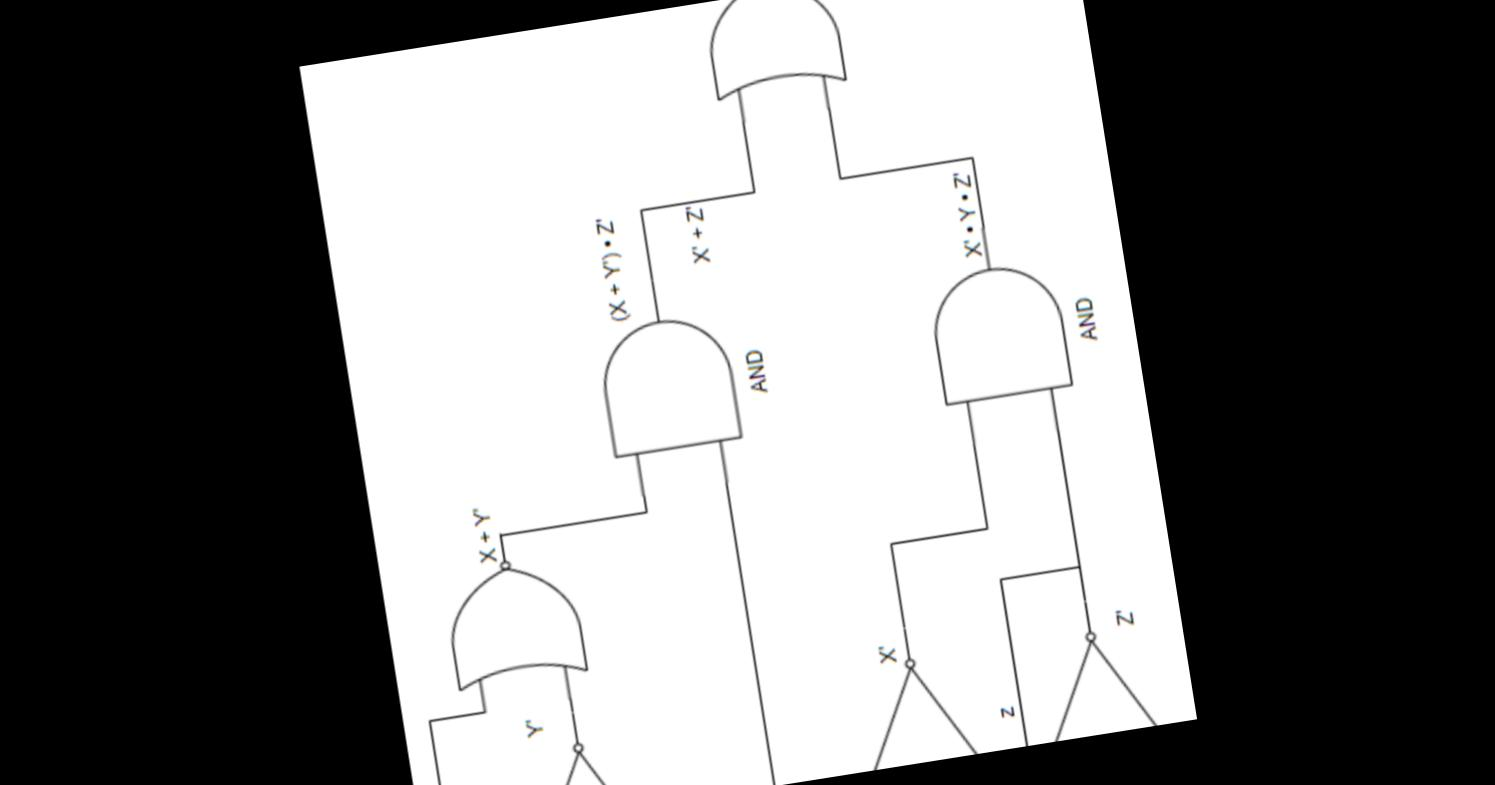and: (580, 297, 760, 473), (911, 246, 1084, 426)
nor: (431, 548, 599, 701), (686, 0, 856, 109)
not: (826, 642, 992, 774), (1014, 614, 1180, 745), (502, 723, 662, 785)
